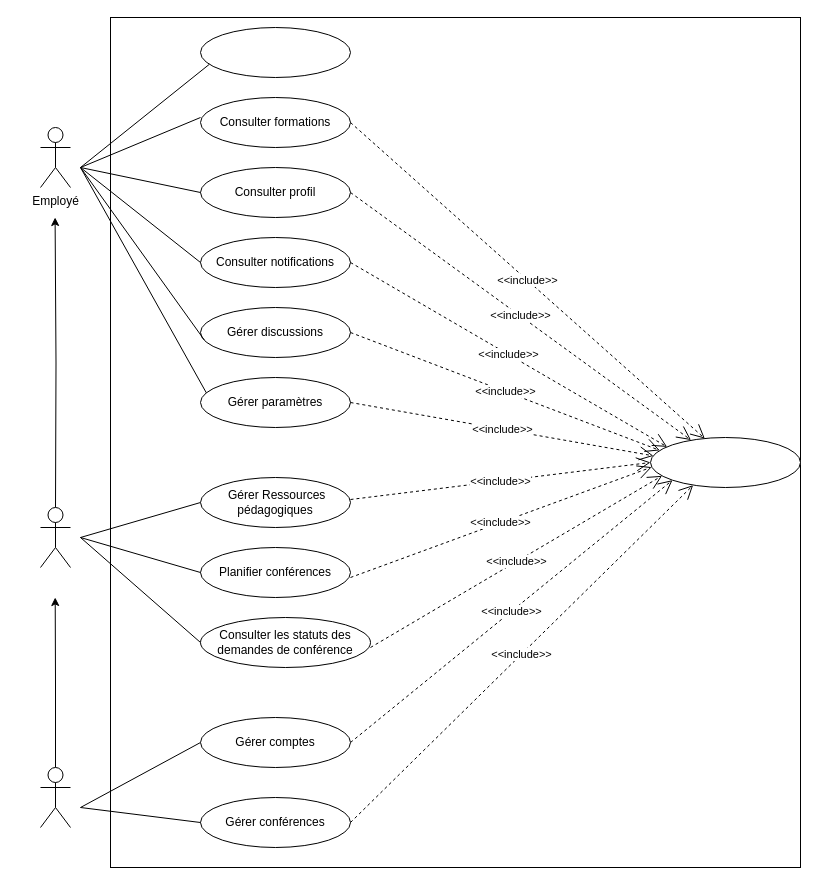
The diagram is 818 pixels wide and 885 high, and some of its shapes have lost their labels. The box of each missing label's shape, as (x1, y1, x2, y2) in pixels:
Administrateur: (40, 766, 70, 828)
Créer compte: (200, 26, 350, 78)
Professeur: (40, 506, 70, 568)
S’authentifier: (650, 436, 800, 488)
